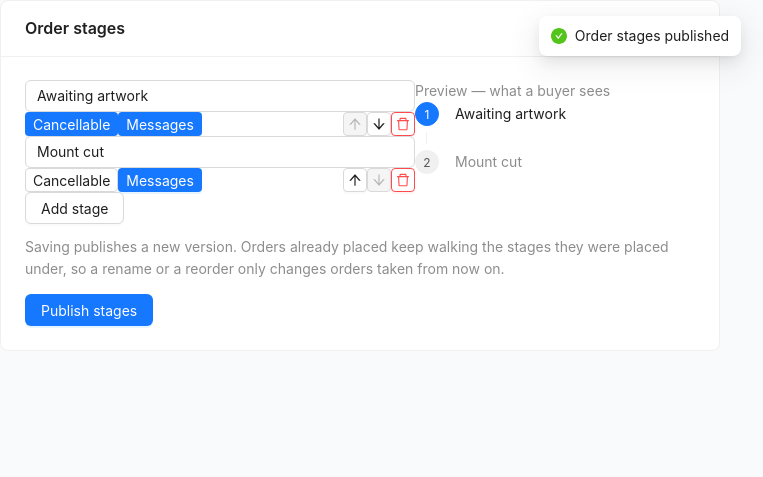
it: StageEditor › refuses to publish two stages sharing a name
The width and height of the screenshot is (763, 477).
Replace the text in the field named "Stage 2 name" with "awaiting artwork" at [220, 152], box left=25, top=136, right=415, bottom=168
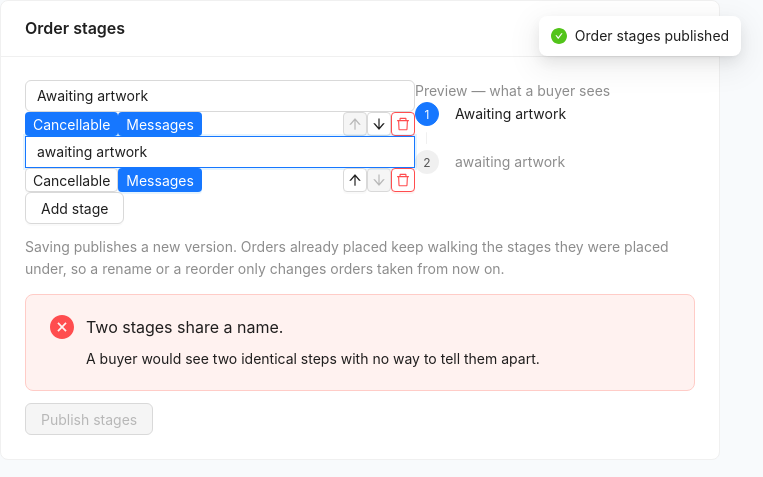
Now the button "Publish stages" is disabled, box left=25, top=403, right=153, bottom=435
Now the text "Two stages share a name." is shown, box left=86, top=317, right=283, bottom=337
